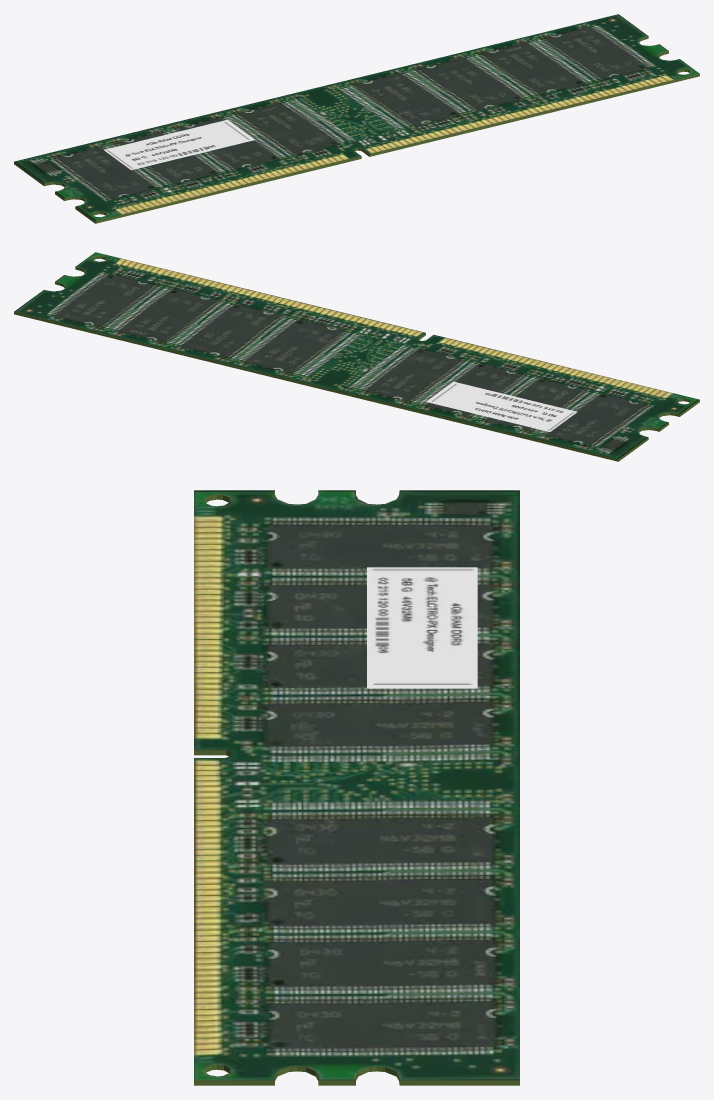
File: memoria_ram.glb
3 renders of one model, top to bottom at view 1: azimuth 30°, elevation 25°; view 2: azimuth 150°, elevation 25°; view 3: azimuth 270°, elevation 25°, orthographic. The views are drawn at different scales.
Parts seen in each view (by area): view 1: RAM_RAM_0; view 2: RAM_RAM_0; view 3: RAM_RAM_0.
Boxes of the visible parts, x1,y1,x2,y2 form: RAM_RAM_0: (14,14,699,223); RAM_RAM_0: (14,252,699,461); RAM_RAM_0: (194,490,519,1085).
Bounding box in the file's own units: 973 × 4.16 × 227.
1 material, 1 textured.
